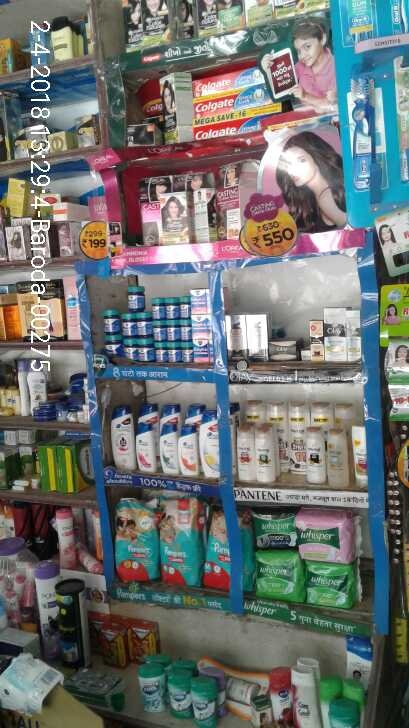vicks: (191, 313, 212, 338), (191, 288, 211, 313), (194, 340, 212, 363), (105, 310, 121, 334), (123, 313, 138, 337), (128, 286, 142, 311), (137, 340, 153, 361), (105, 336, 121, 356), (138, 312, 150, 337), (164, 320, 180, 338), (166, 295, 179, 317), (155, 342, 169, 362), (153, 297, 166, 317), (170, 341, 181, 362), (179, 294, 190, 314), (125, 337, 135, 358), (182, 343, 192, 363), (155, 320, 164, 342), (180, 319, 190, 338)
